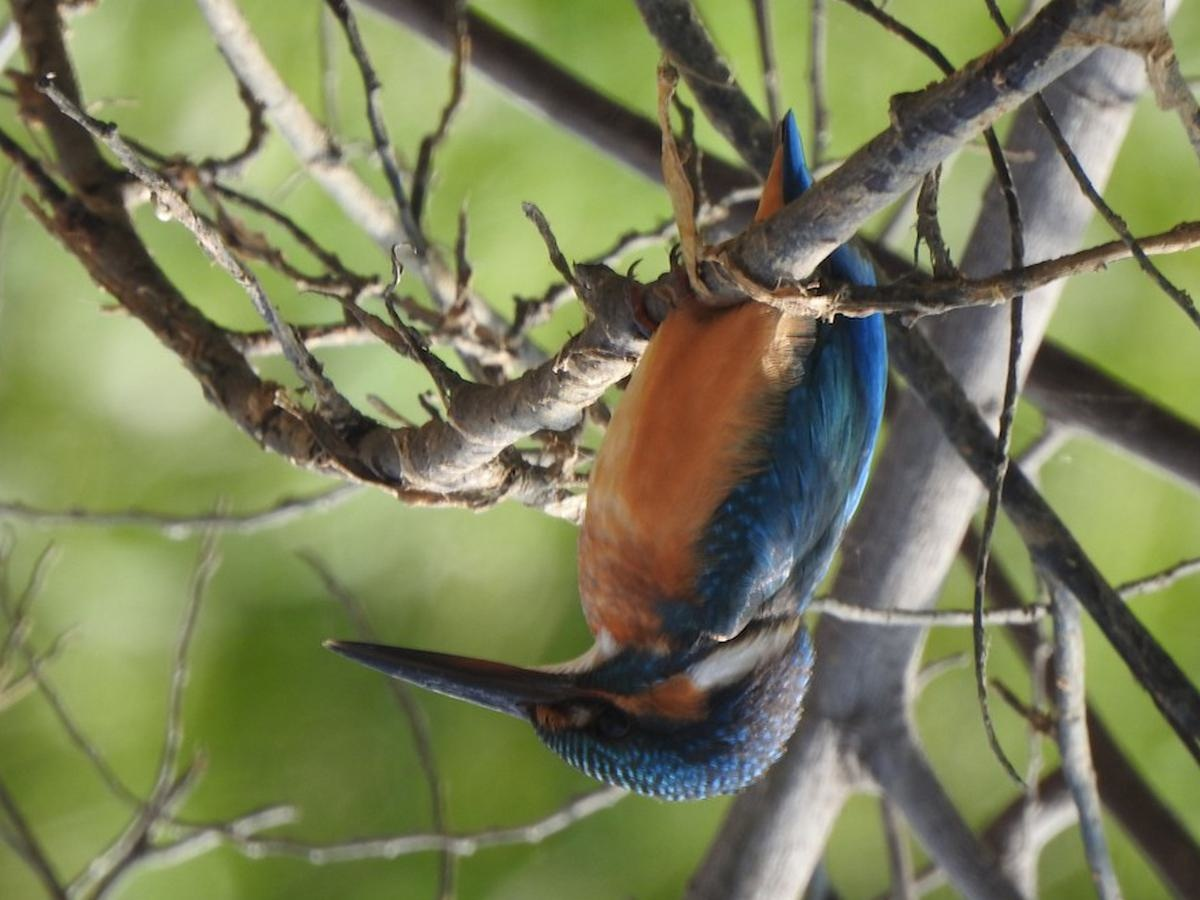kingfisher: (310, 112, 977, 814)
